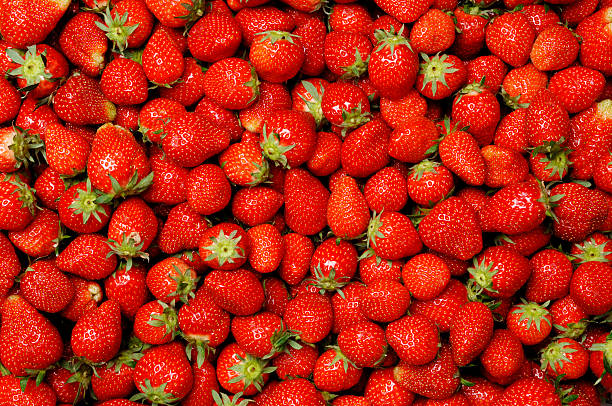Fresa: (1, 292, 64, 381), (85, 120, 154, 199), (475, 175, 552, 242), (416, 192, 485, 265), (540, 180, 612, 247), (466, 242, 540, 306), (132, 336, 195, 406), (521, 86, 575, 164), (395, 341, 464, 402), (161, 109, 231, 168), (280, 163, 332, 241), (69, 293, 123, 368), (105, 194, 164, 259), (444, 294, 495, 369), (449, 80, 502, 151), (18, 256, 80, 316), (53, 72, 117, 130), (1, 1, 75, 51), (325, 171, 375, 244), (261, 106, 318, 170), (59, 11, 111, 81), (340, 115, 395, 180), (368, 32, 418, 103), (202, 54, 263, 112), (202, 266, 270, 318), (483, 6, 535, 73), (306, 235, 364, 295), (185, 7, 244, 65), (366, 207, 425, 265), (247, 30, 307, 87), (179, 288, 233, 351), (11, 42, 71, 98), (282, 286, 337, 346), (57, 230, 118, 284), (230, 307, 292, 360), (384, 312, 442, 368), (40, 118, 92, 180), (437, 125, 487, 189), (318, 26, 374, 83), (6, 205, 65, 258), (548, 61, 604, 116), (142, 26, 188, 92), (320, 78, 375, 133), (414, 49, 470, 103), (214, 343, 271, 396), (142, 254, 202, 304), (479, 321, 528, 382), (138, 92, 190, 149), (196, 220, 254, 271), (407, 3, 459, 58), (531, 20, 583, 75), (402, 250, 452, 306), (130, 296, 182, 349), (157, 202, 210, 254), (478, 139, 530, 192), (220, 138, 271, 192), (339, 317, 390, 371), (570, 253, 612, 318), (103, 261, 150, 319), (101, 56, 151, 109), (361, 275, 411, 328), (389, 113, 439, 166), (145, 151, 190, 206), (406, 159, 457, 207), (539, 335, 590, 382), (104, 1, 156, 47), (365, 165, 408, 220), (245, 221, 287, 277), (506, 299, 555, 347), (232, 187, 289, 228), (313, 344, 363, 390), (449, 3, 489, 57), (1, 178, 38, 234), (1, 125, 29, 173)
